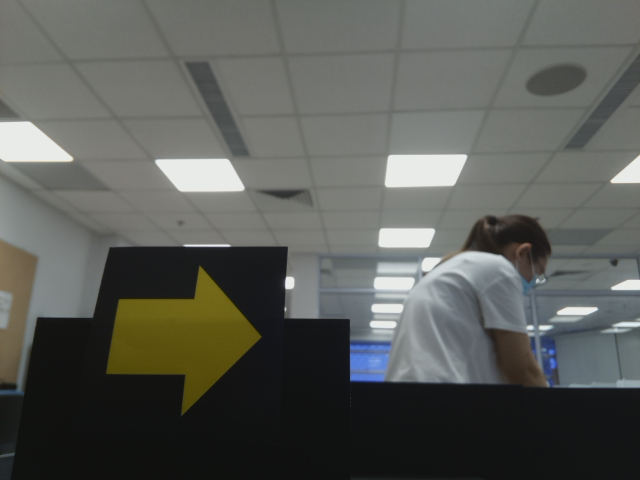right: (111, 257, 263, 432)
